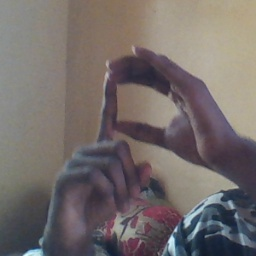P: (62, 43, 208, 201)
